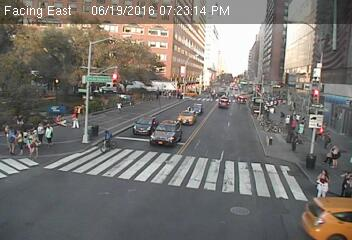neg: (157, 160, 179, 190), (168, 100, 185, 123), (256, 104, 273, 127), (78, 183, 95, 205), (288, 80, 304, 102), (151, 64, 167, 85), (66, 136, 82, 157), (33, 75, 49, 96), (26, 161, 42, 182), (251, 155, 266, 176), (64, 58, 79, 78), (206, 191, 221, 211), (149, 36, 164, 56), (220, 95, 234, 114), (220, 54, 234, 73), (218, 131, 232, 149), (261, 58, 275, 76), (183, 50, 197, 68), (104, 70, 115, 85)
pos: (307, 165, 331, 196), (95, 122, 117, 152), (67, 106, 84, 128), (44, 122, 60, 144), (328, 145, 344, 166), (35, 120, 48, 137)
